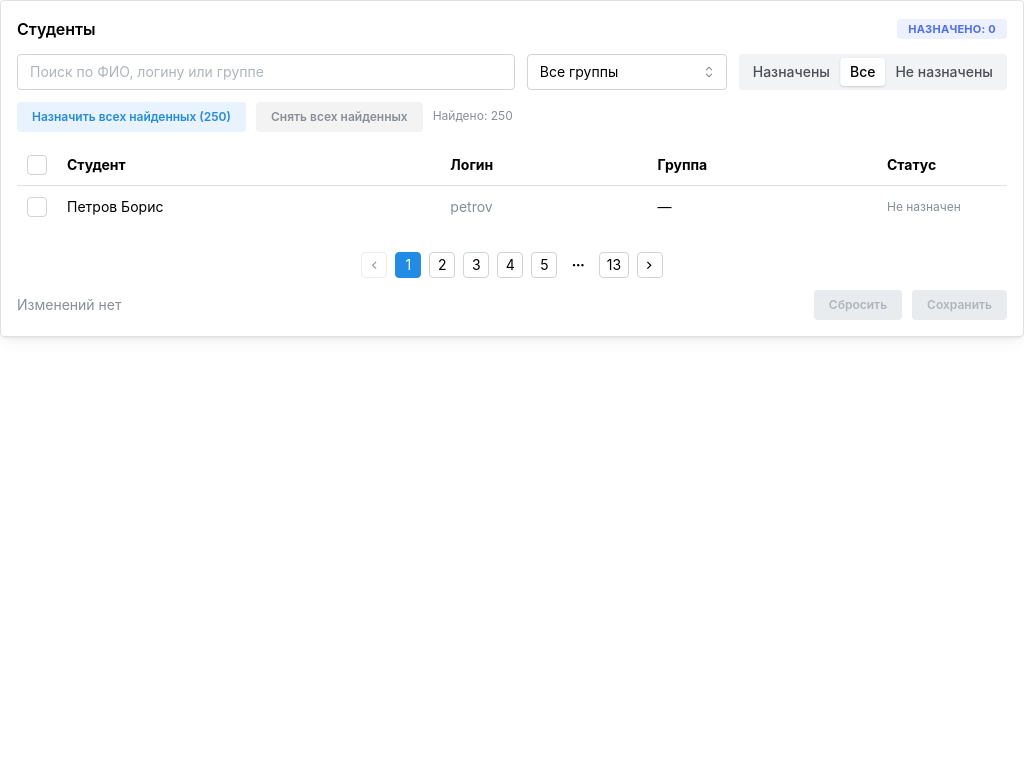
Test: StudentAssignmentCard › «Назначить всех найденных» собирает все страницы и просит подтверждение
This screenshot has width=1024, height=768.
Click the button "Назначить всех найденных (250)" at (132, 117), box [17,102,246,132]
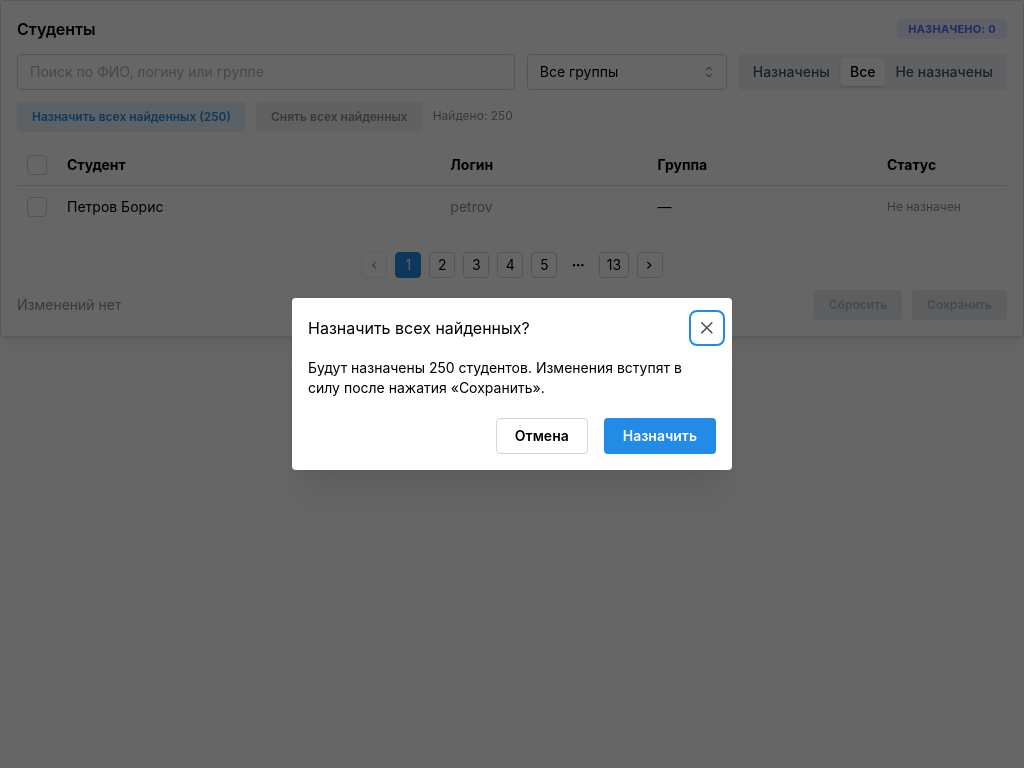
Now the text "Будут назначены 250 студентов" is shown, box [308,359,682,396]
Click the button "Назначить" at (660, 436), box [604,418,716,454]
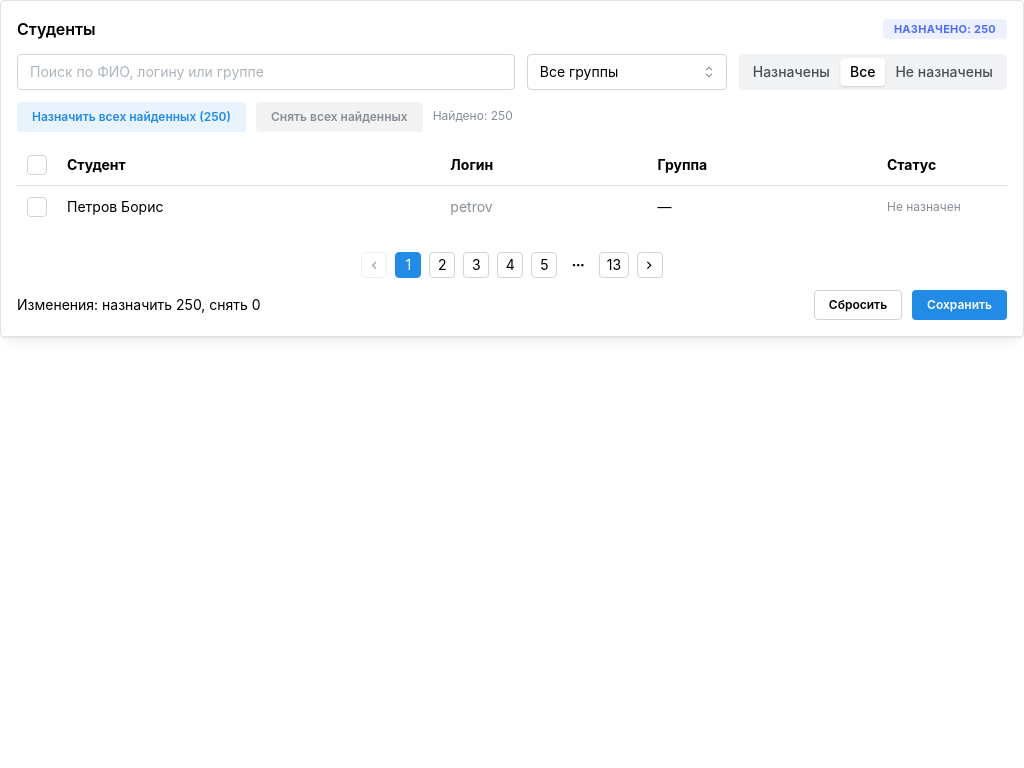
Now the text "Изменения: назначить 250, снять 0" is shown, box [17,295,261,315]
